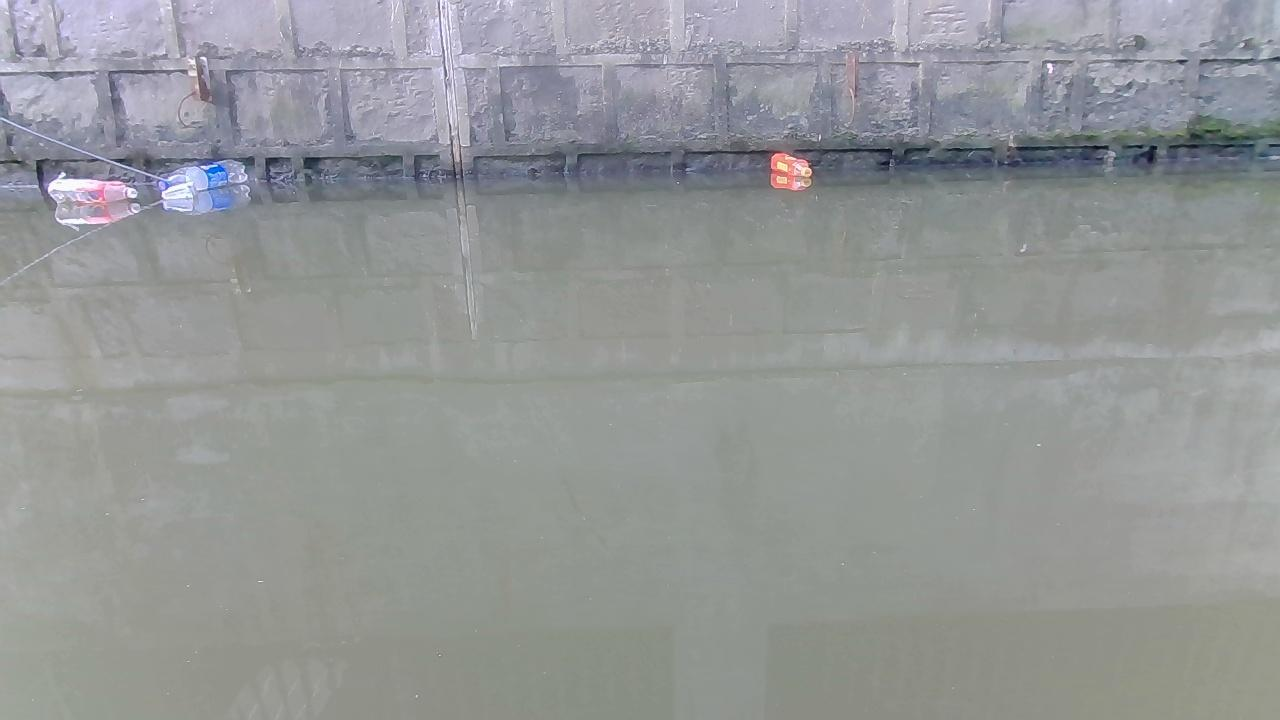bottle: (42, 175, 136, 209), (158, 161, 251, 190), (771, 151, 817, 183), (157, 180, 199, 204)
